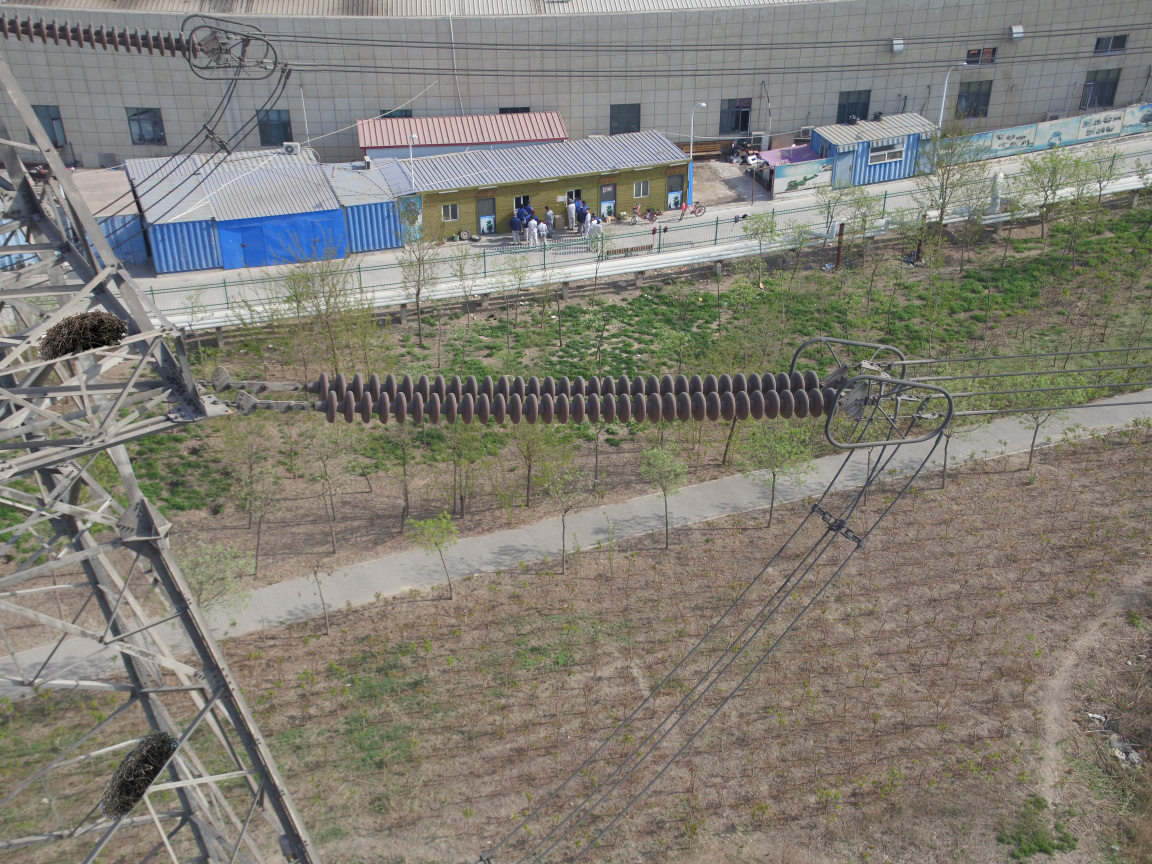nest: (90, 713, 180, 831), (37, 301, 126, 373)
